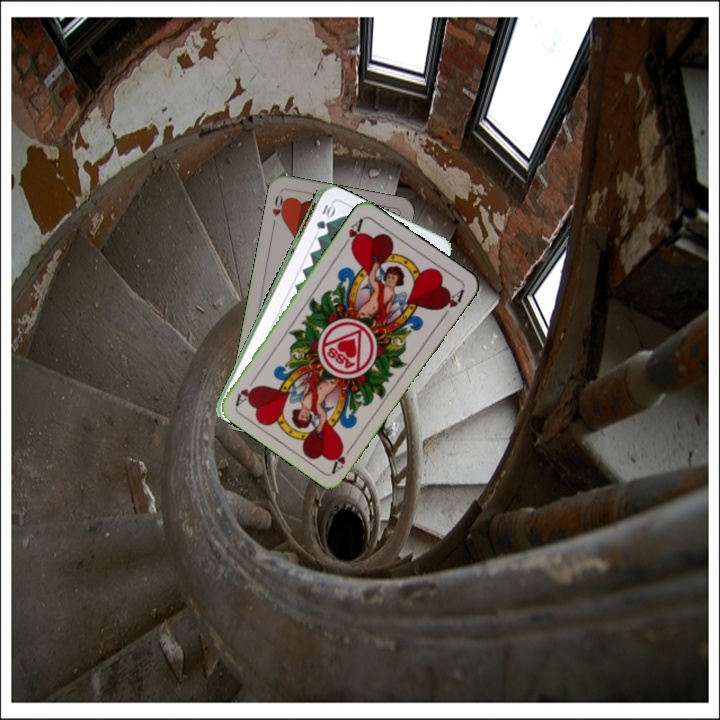G10: (312, 200, 335, 232)
HA: (328, 439, 357, 475), (338, 214, 366, 251)
HO: (268, 189, 289, 229)
